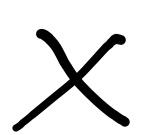mult: (13, 29, 130, 132)
